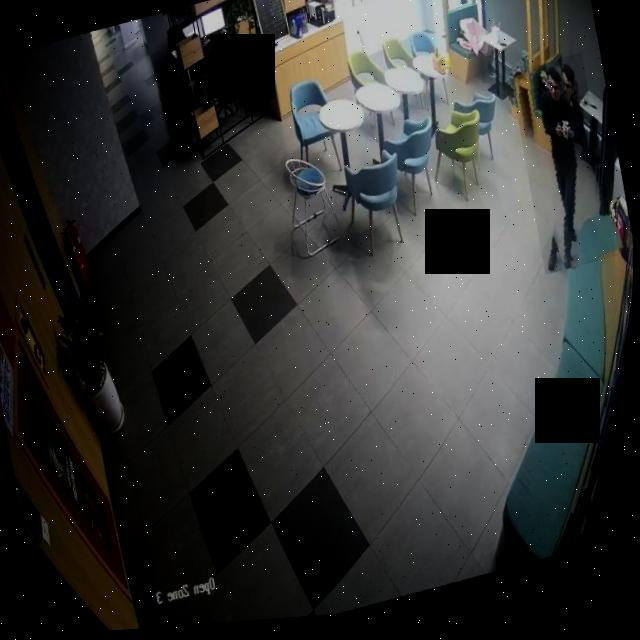person: (507, 60, 623, 286)
